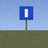sign: (20, 6, 33, 36)
